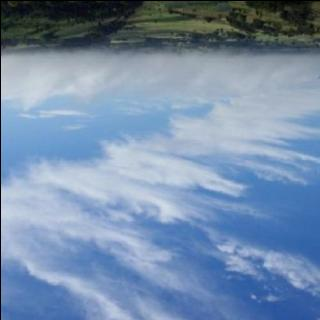Altostratus: (0, 58, 320, 320)
